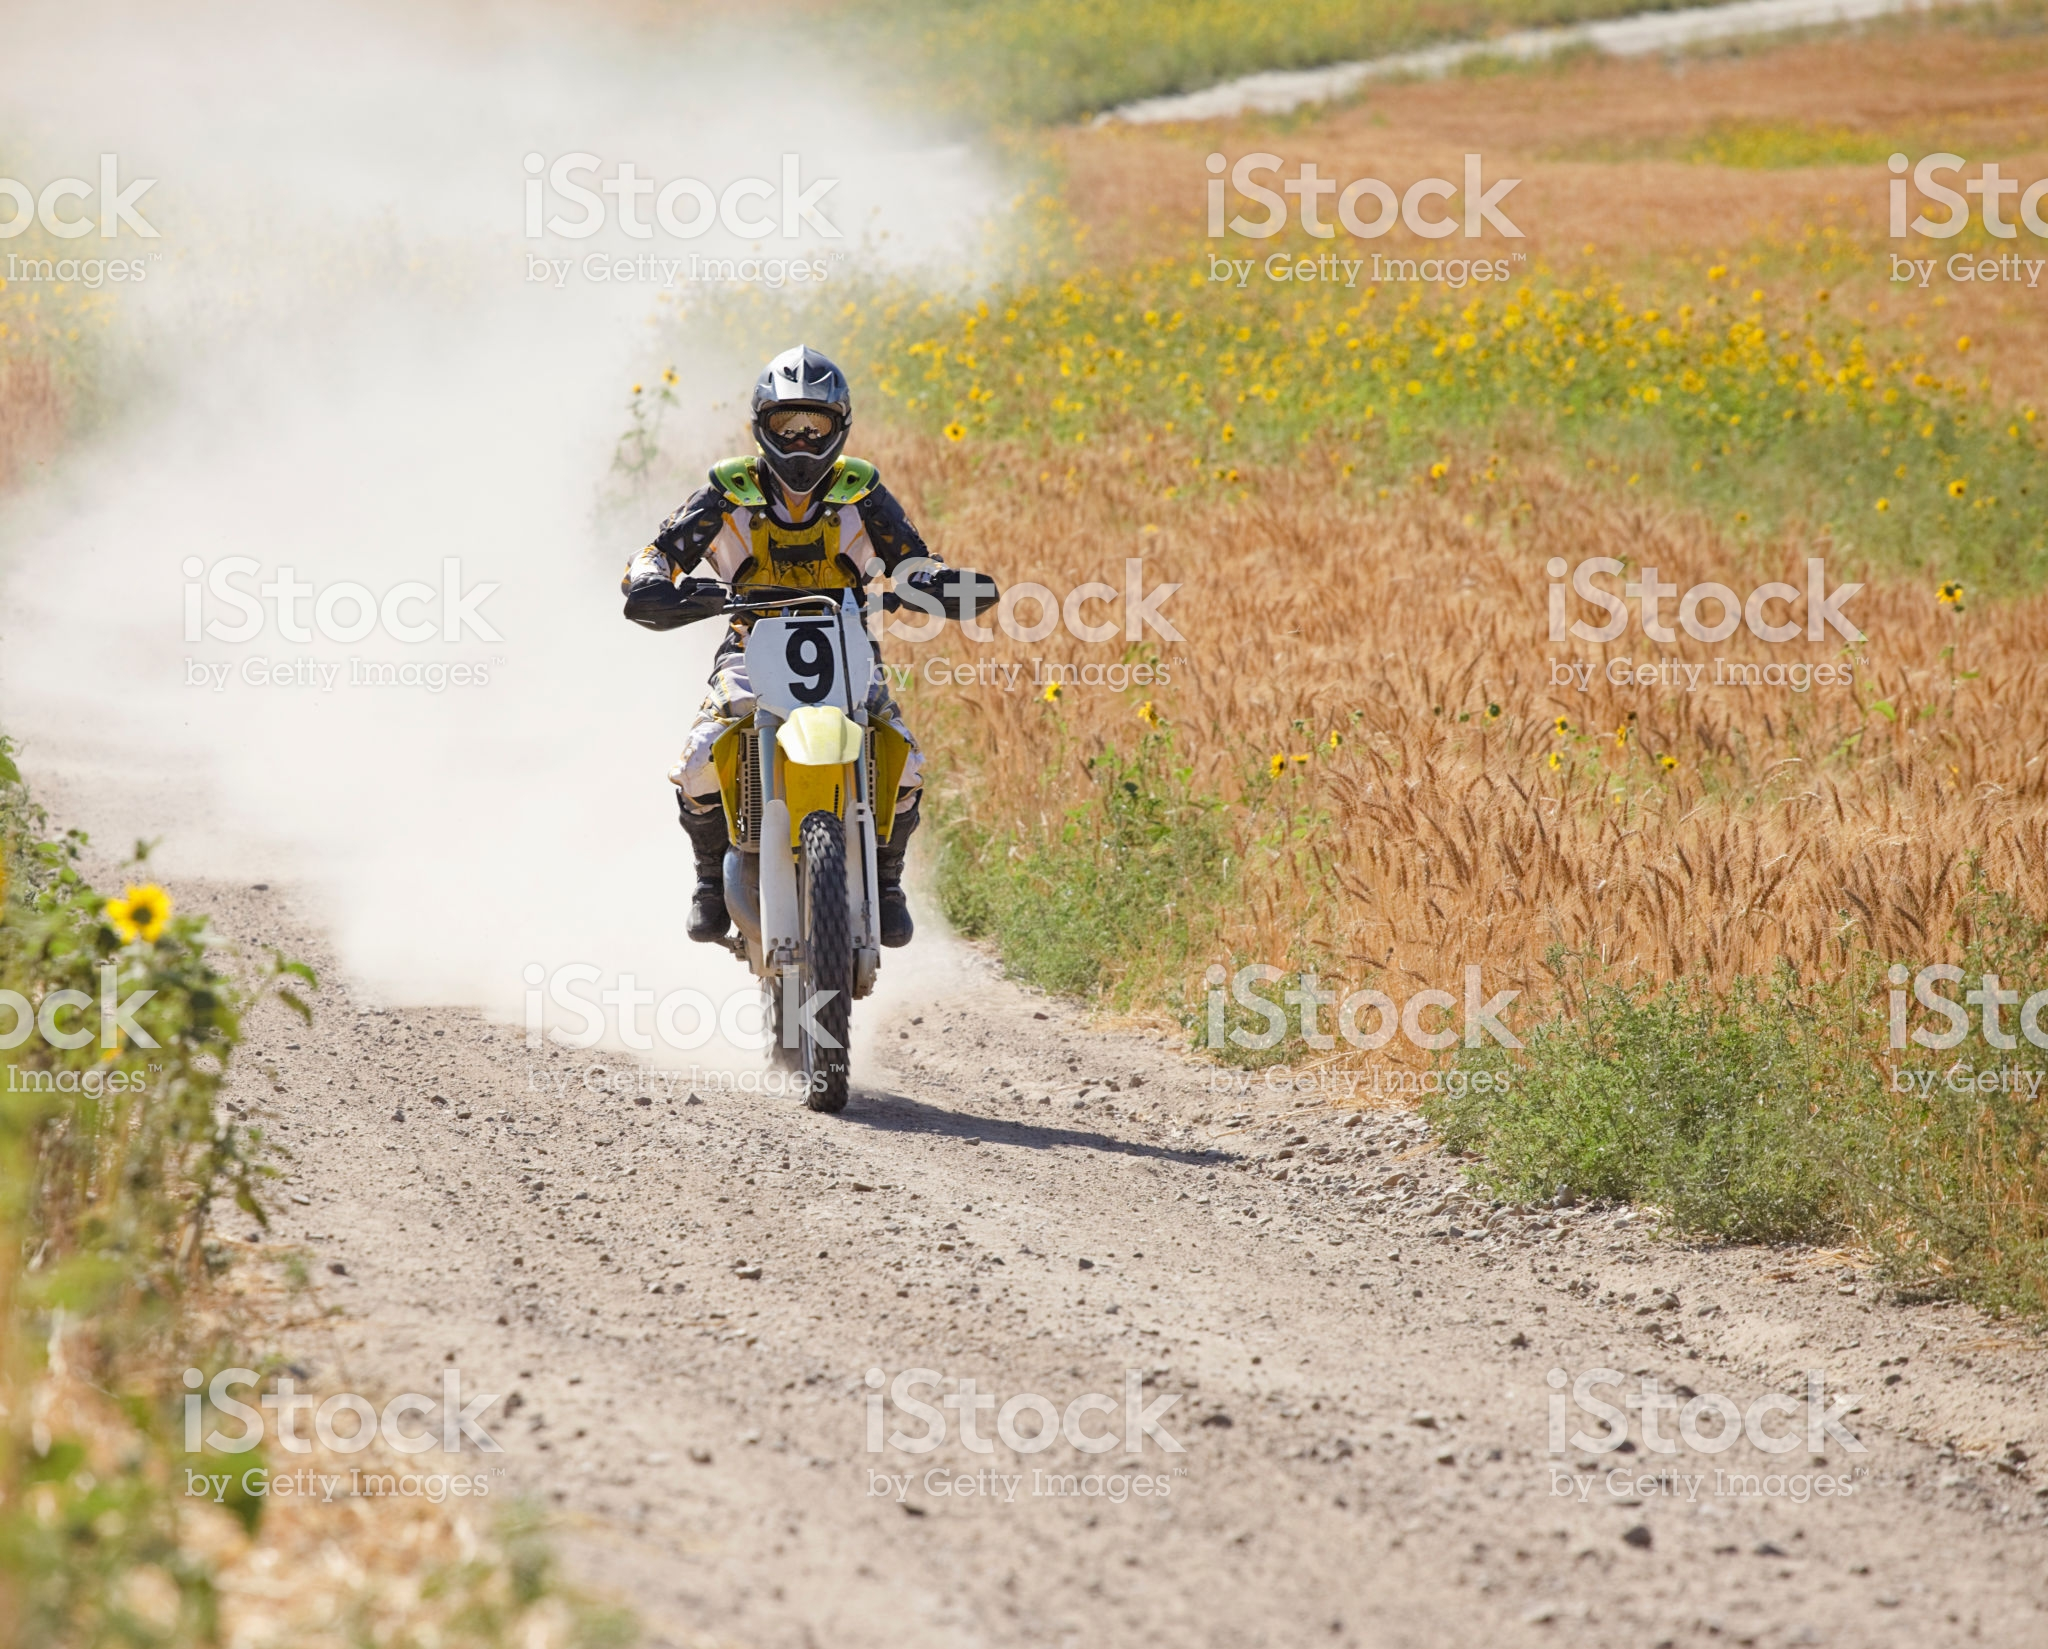helmet: (756, 343, 840, 481)
